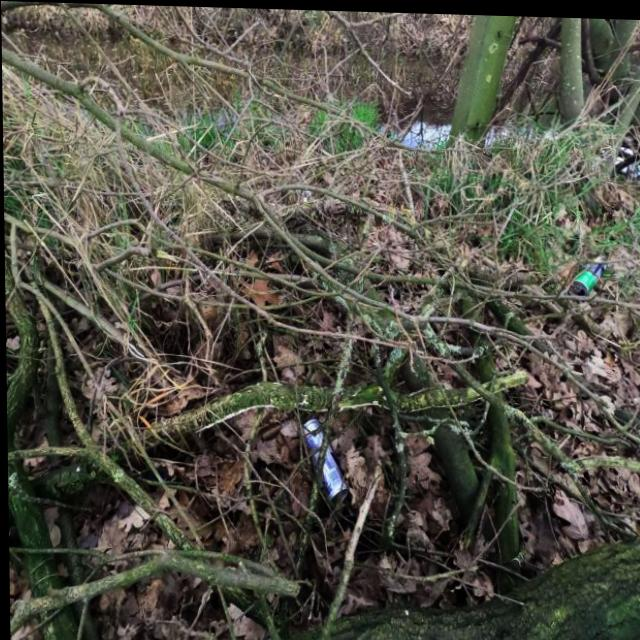Can-Metal: (299, 413, 348, 504), (567, 248, 606, 293)
